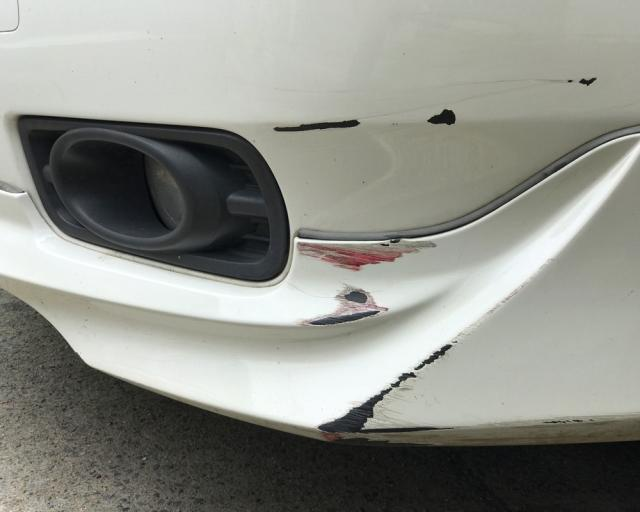scratch: (312, 255, 560, 447), (293, 238, 443, 329), (450, 73, 601, 90), (267, 115, 369, 139), (525, 413, 610, 428), (422, 106, 469, 130)
